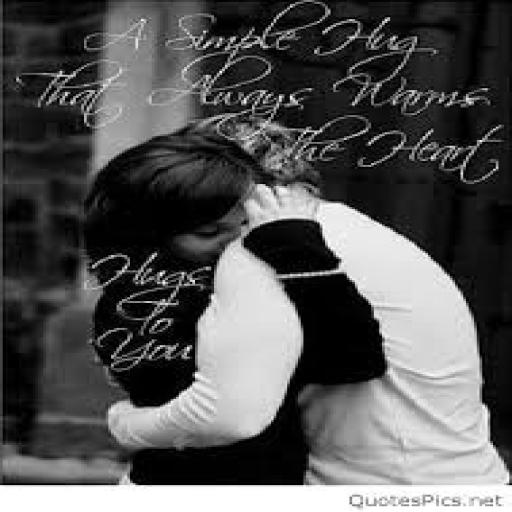hugging: (79, 111, 509, 485)
